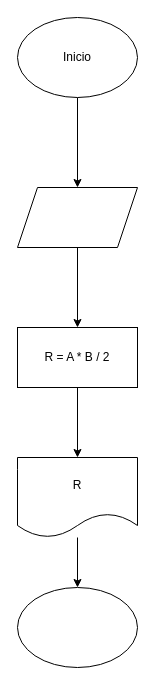
This 155x685 diagram has some shape labels left out. Here are the shapes that lost their labels. From the top down, the centre of each, then its label:
At [77,217]: "A, B".
At [77,627]: "Fin".
